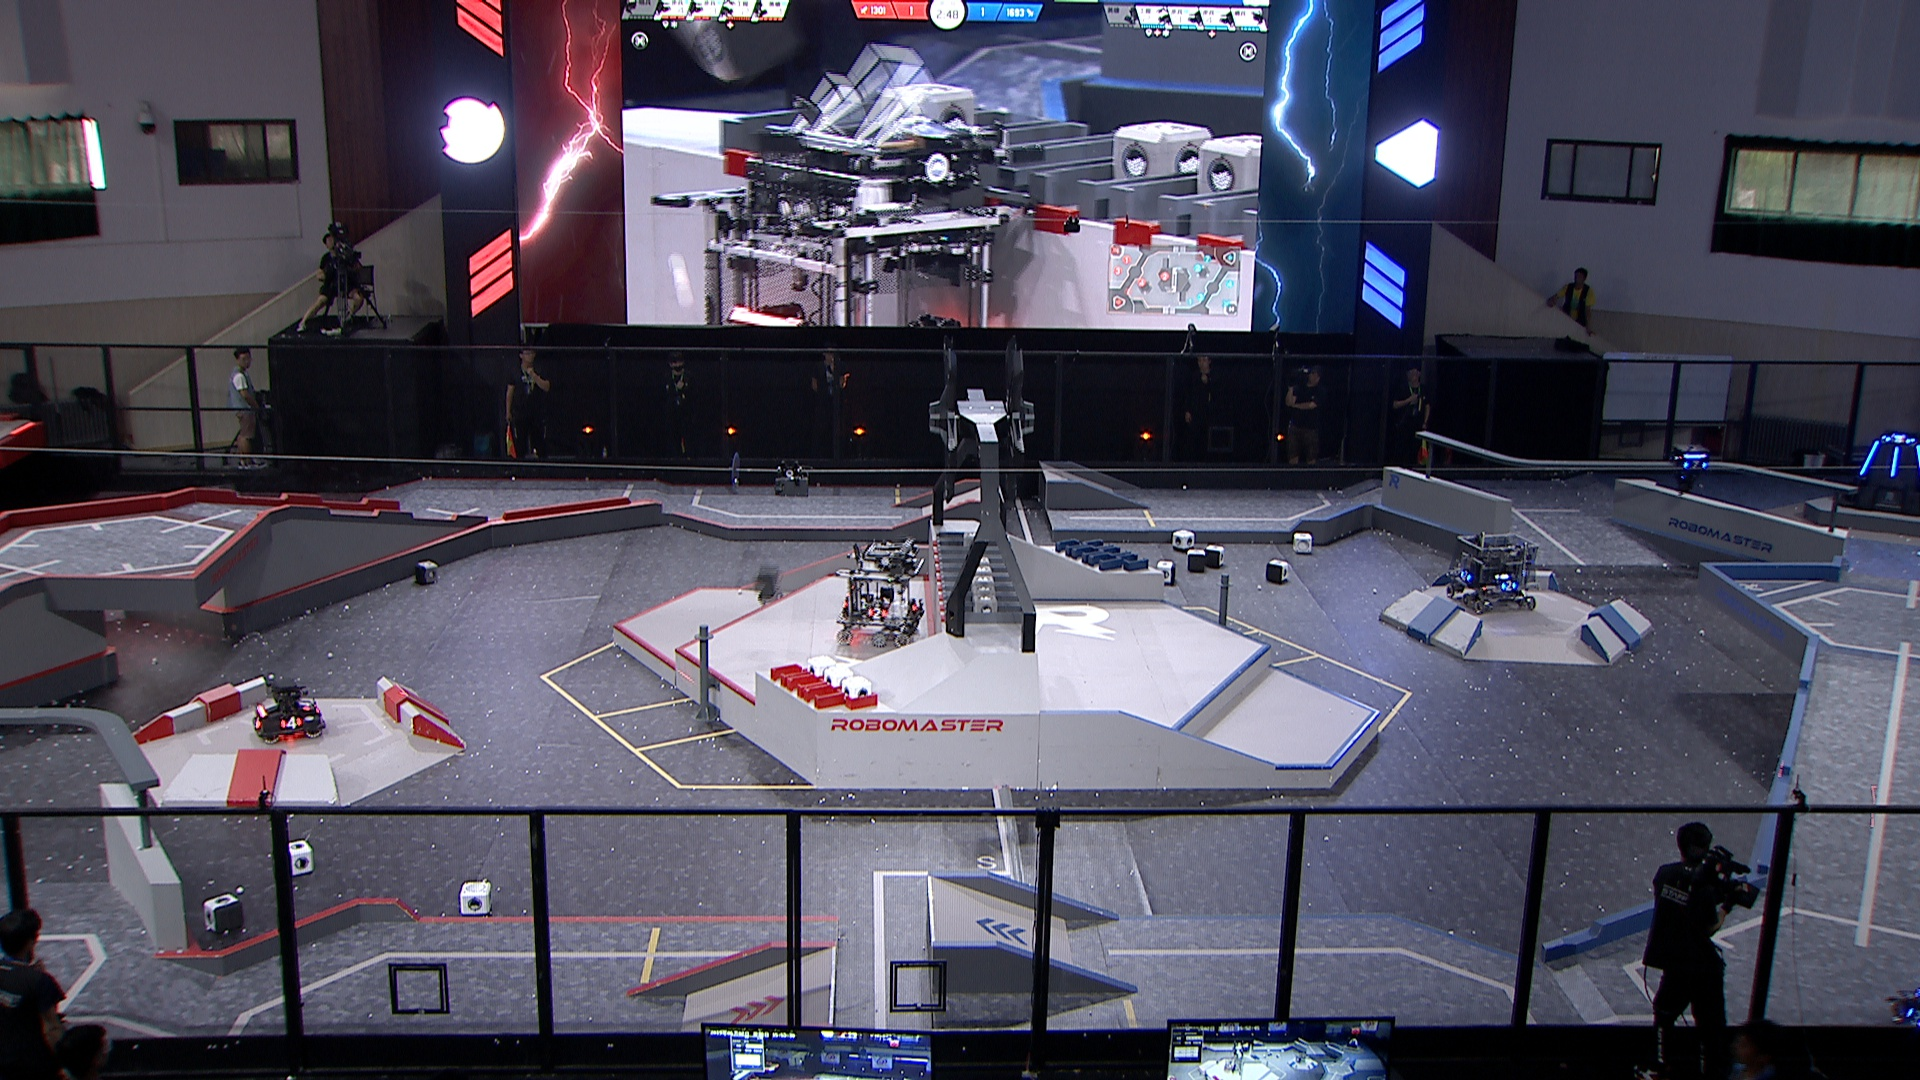armor: (1855, 438, 1882, 476), (1884, 446, 1903, 477), (280, 713, 306, 732), (1882, 433, 1917, 446), (864, 604, 889, 621), (1679, 458, 1709, 471), (294, 695, 315, 712), (1499, 579, 1519, 593), (1457, 566, 1472, 584), (251, 712, 262, 732)
base: (1833, 429, 1920, 520)
car: (833, 537, 932, 651), (1443, 529, 1542, 616), (247, 671, 327, 745), (1887, 955, 1920, 1046)
ignore: (659, 83, 1026, 328)
watcher: (1669, 439, 1716, 491)
